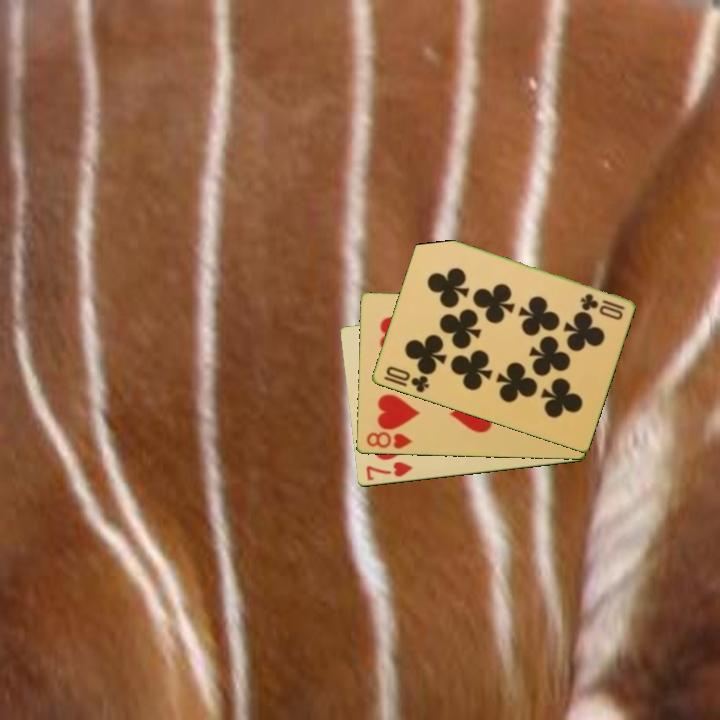10c: (382, 363, 432, 396), (576, 290, 628, 313)
7h: (363, 459, 415, 483)
8h: (363, 429, 415, 452)
